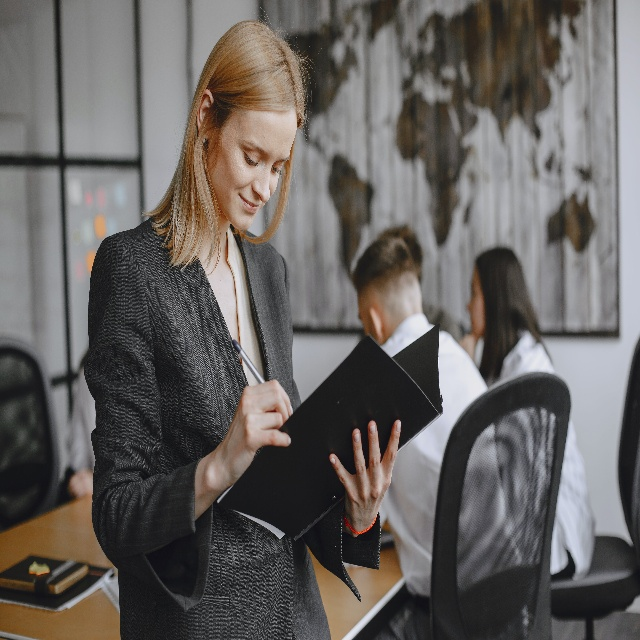Sin_guantes: (326, 414, 406, 515), (215, 381, 292, 471)
